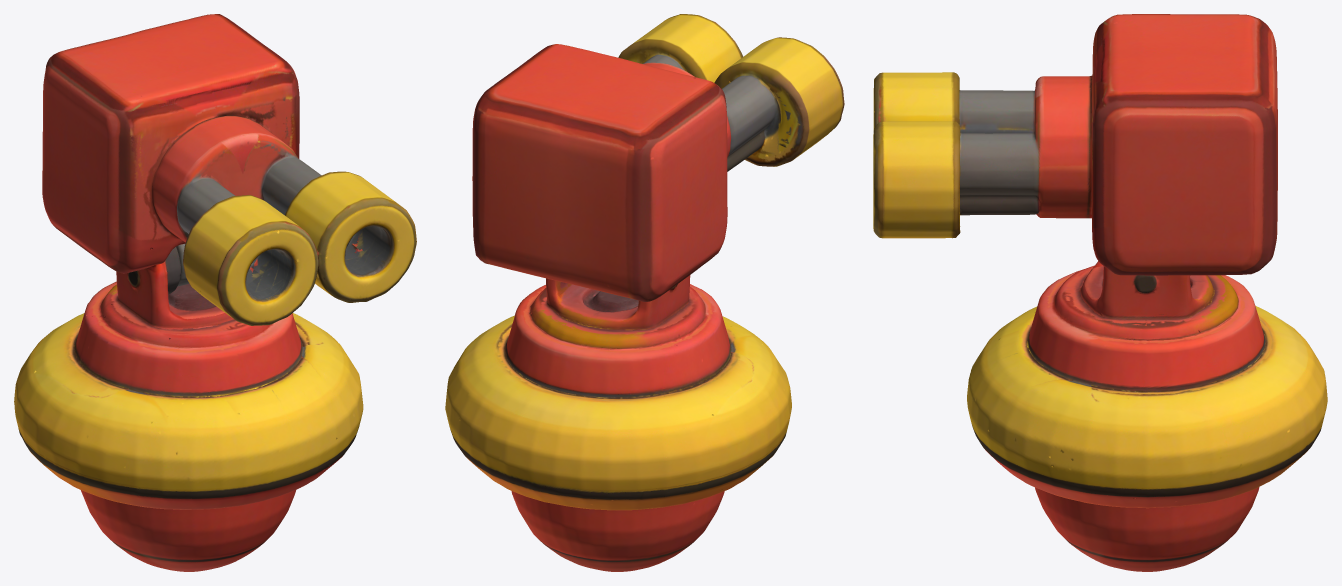
File: turretv1.glb
The picture shows the model from 3 angles, left to right: view 1: azimuth 30°, elevation 25°; view 2: azimuth 150°, elevation 25°; view 3: azimuth 270°, elevation 25°; orthographic projection. The views are drawn at different scales.
Size of the model in its own units: 1.28 by 2 by 1.62.
1 material, 1 textured.
